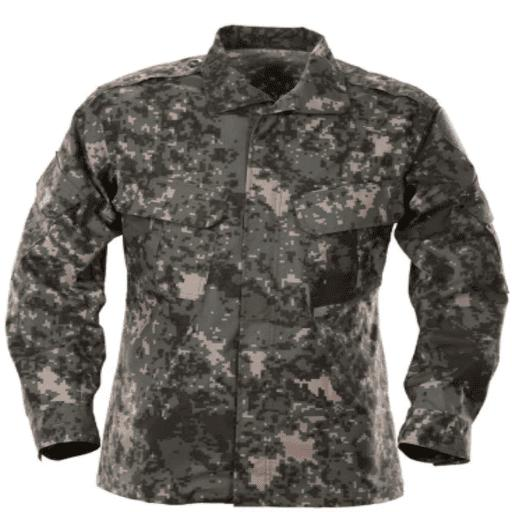korea army: (4, 23, 509, 507)
